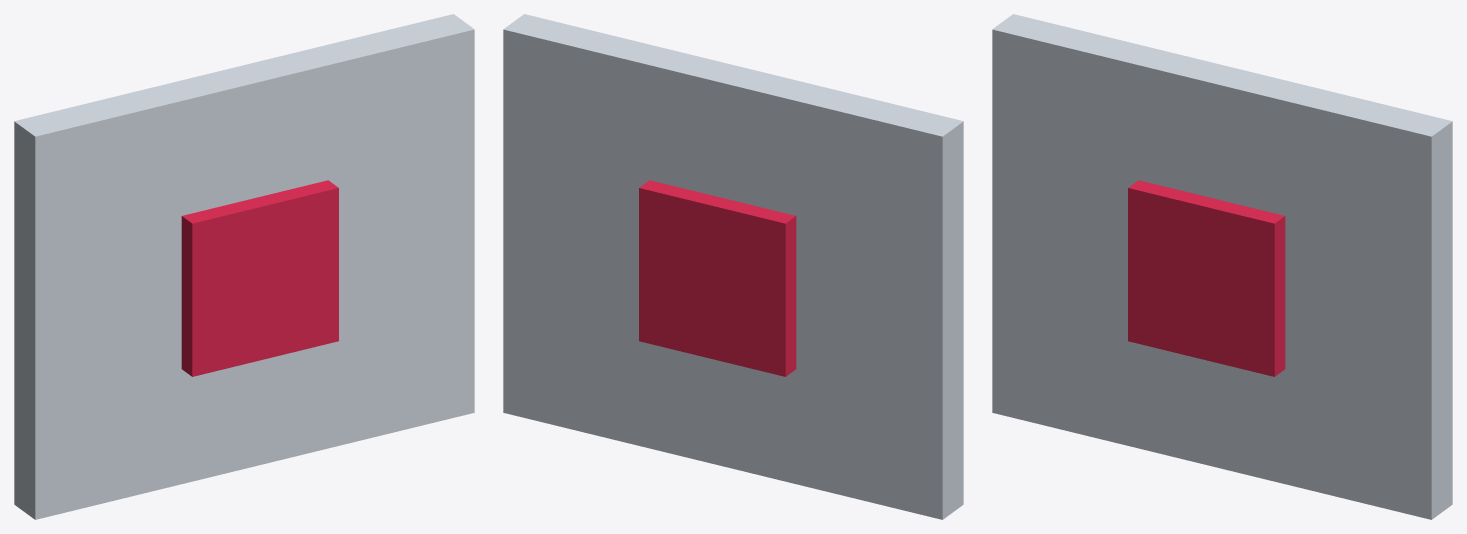
File: chip.obj
3 renders of one model, left to right at view 1: azimuth 30°, elevation 25°; view 2: azimuth 150°, elevation 25°; view 3: azimuth 330°, elevation 25°, orthographic.
Bounding box in the file's own units: 12 × 10 × 2.
